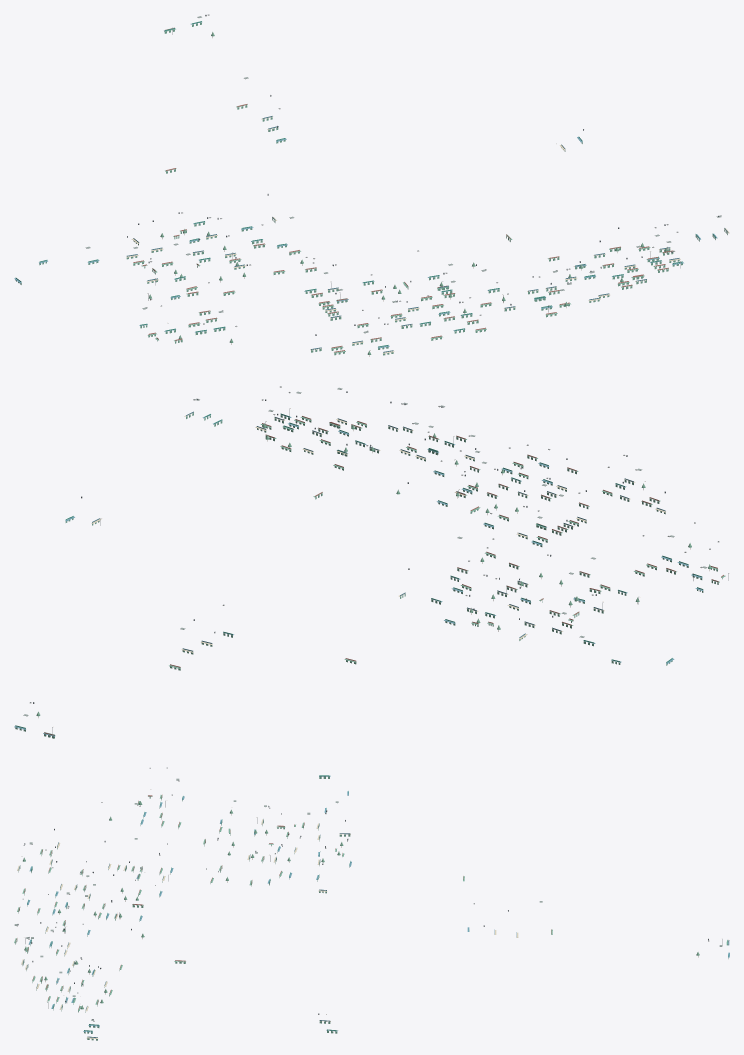
3 views of the same model, one above another, from view 1: azimuth 30°, elevation 25°; view 2: azimuth 150°, elevation 25°; view 3: azimuth 270°, elevation 25° (orthographic). The views are drawn at different scales.
Parts seen in each view (by area): view 1: Station neighborhood architectural details; view 2: Station neighborhood architectural details; view 3: Station neighborhood architectural details.
Part boxes in pixels (x1,y1,x2,y2): Station neighborhood architectural details: (14, 14, 729, 356); Station neighborhood architectural details: (14, 386, 729, 738); Station neighborhood architectural details: (14, 767, 729, 1040).
Size of the model in its own units: 586 by 33.9 by 673.
